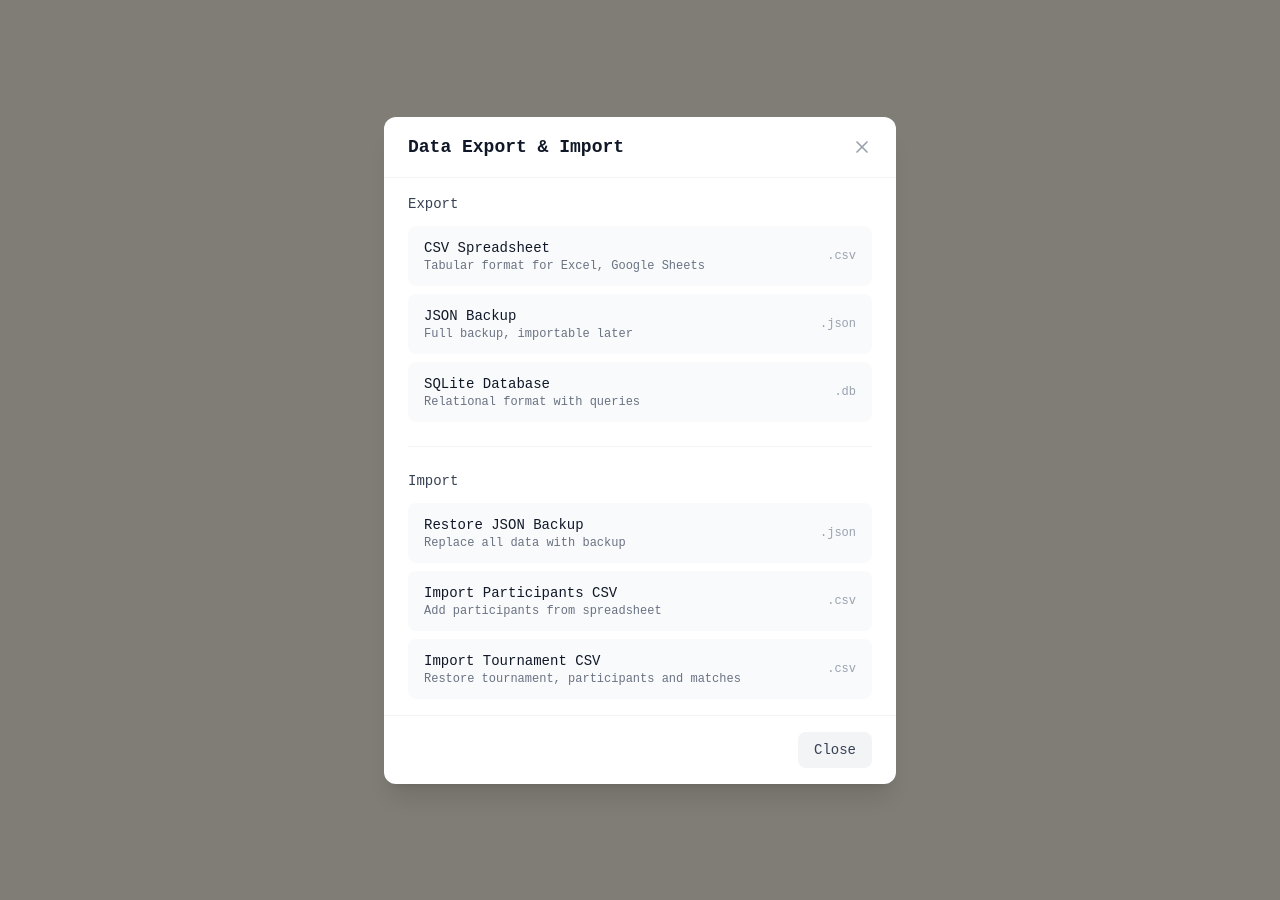
Scenario: ExportModal › reports a SQLite export failure
The width and height of the screenshot is (1280, 900).
Click the text "SQLite Database".
click(487, 384)  # box 424,376 -> 550,392
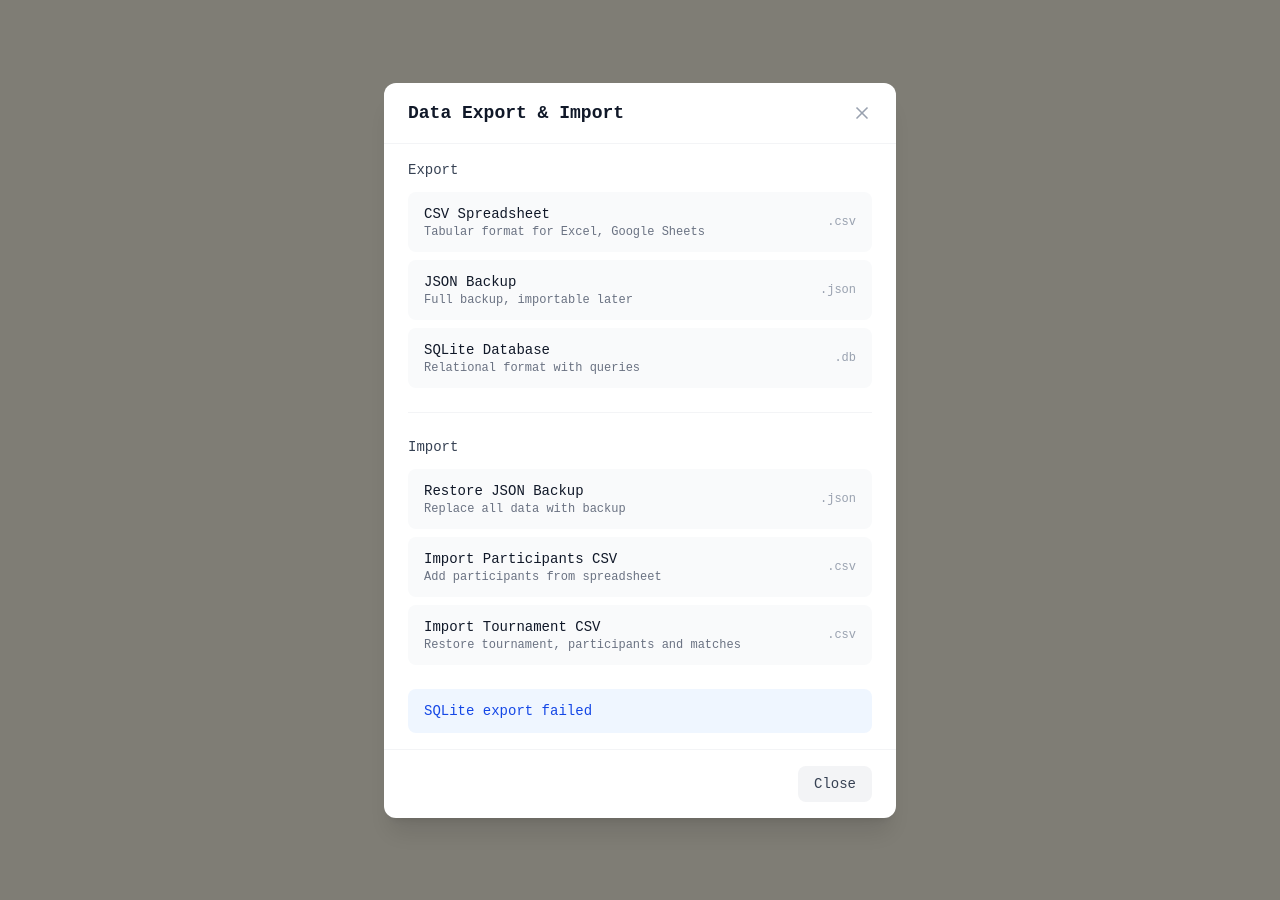
expect the text "SQLite export failed" is shown: met, box 424,700 -> 592,720
